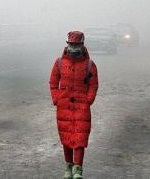person: (49, 29, 101, 179)
